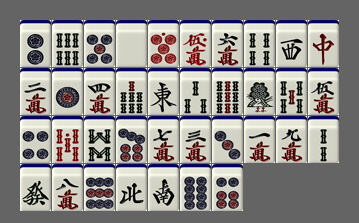0m: (180, 20, 211, 67)
0p: (148, 20, 179, 67)
0s: (52, 116, 83, 163)
1m: (244, 116, 275, 163)
1p: (52, 68, 83, 115)
1s: (244, 68, 275, 115)
1z: (148, 68, 179, 115)
2m: (20, 68, 51, 115)
2p: (20, 20, 51, 67)
2s: (308, 116, 339, 163)
2z: (148, 164, 179, 211)
3m: (180, 116, 211, 163)
3p: (212, 116, 243, 163)
3s: (180, 68, 211, 115)
3z: (276, 20, 307, 67)
4m: (84, 68, 115, 115)
4p: (20, 116, 51, 163)
4s: (244, 20, 275, 67)
4z: (116, 164, 147, 211)
5m: (308, 68, 339, 115)
5p: (84, 20, 115, 67)
5s: (276, 68, 307, 115)
5z: (116, 20, 147, 67)
6m: (212, 20, 243, 67)
6p: (212, 164, 243, 211)
6s: (52, 20, 83, 67)
6z: (20, 164, 51, 211)
7m: (148, 116, 179, 163)
7p: (116, 116, 147, 163)
7s: (116, 68, 147, 115)
7z: (308, 20, 339, 67)
8m: (52, 164, 83, 211)
8p: (180, 164, 211, 211)
8s: (84, 116, 115, 163)
9m: (276, 116, 307, 163)
9p: (84, 164, 115, 211)
9s: (212, 68, 243, 115)
